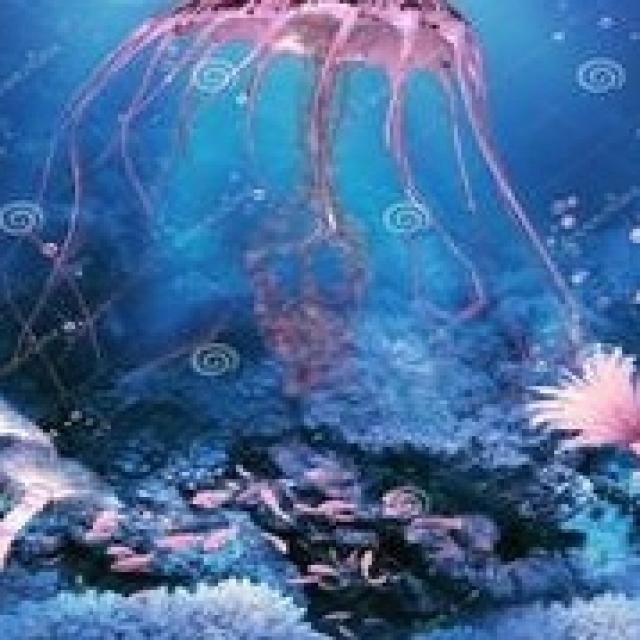Jellyfish: (19, 0, 589, 337)
